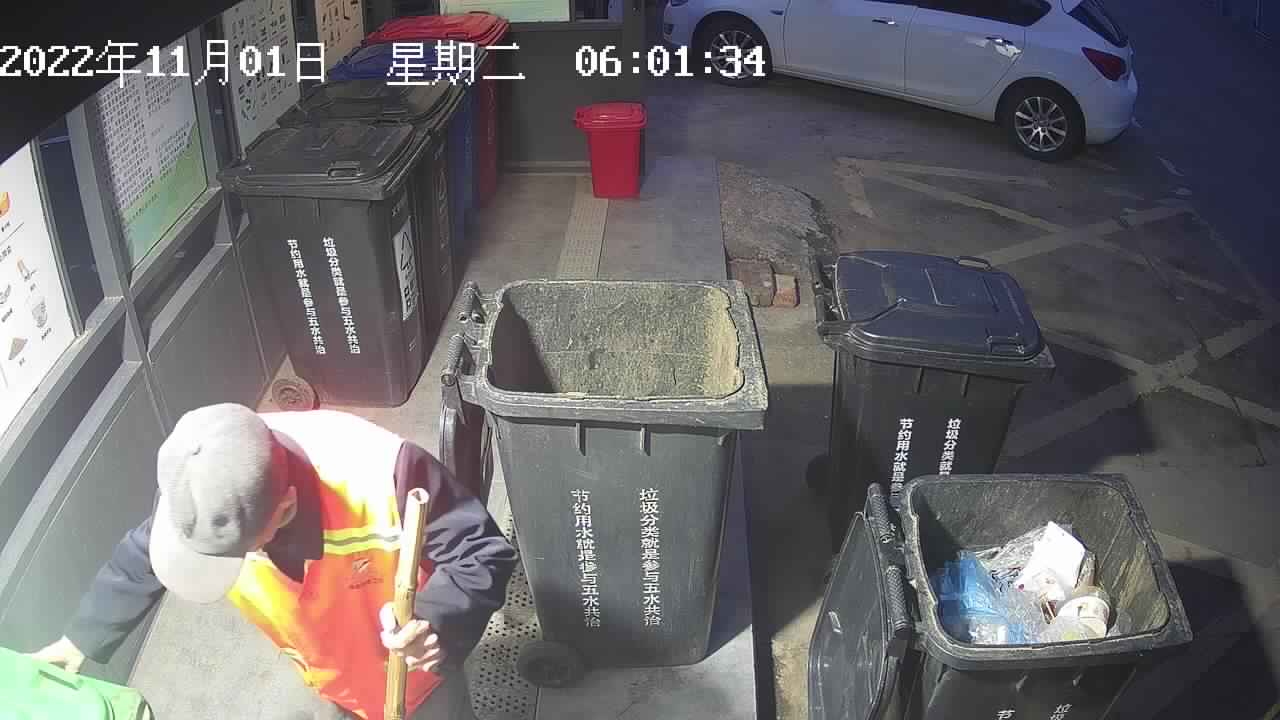worker: (19, 400, 521, 720)
